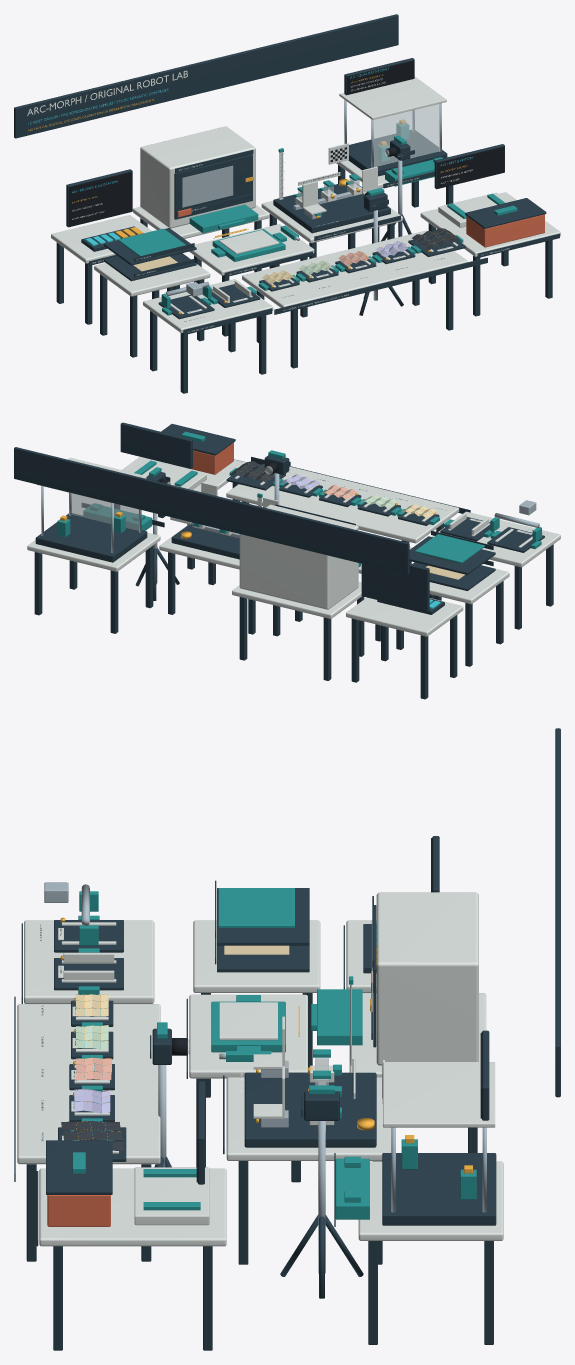
Rendered from arcmorph_lab.glb.
3 renders of one model, top to bottom at view 1: azimuth 30°, elevation 25°; view 2: azimuth 150°, elevation 25°; view 3: azimuth 270°, elevation 25°, orthographic. The views are drawn at different scales.
Parts seen in each view (by area): view 1: scene.banner, fab.enclosure, families.table.top, fab.closed_guard, qual.corner.closed_guard, records.console.screen, qual.corner.top, rig.base, carriers.table.top, qual.corner.base, fold.table.top, inspection.history.screen (+28 smaller); view 2: scene.banner, fab.enclosure, families.table.top, qual.corner.base, records.console.body, records.table.top, inspection.history.body, carriers.table.top, qual.table.top, rig.base, qual.corner.closed_guard, fab.table.top (+26 smaller); view 3: fab.enclosure, families.table.top, qual.corner.base, rig.base, qual.corner.top, inspection.table.top, carriers.table.top, fold.table.top, stock.table.top, rig.table.top, qual.table.top, inspection.rest_cradle (+24 smaller).
Part boxes in pixels (<box>): scene.banner: <box>14,14,398,138</box>; fab.enclosure: <box>140,126,255,228</box>; families.table.top: <box>242,230,468,307</box>; fab.closed_guard: <box>174,154,252,219</box>; qual.corner.closed_guard: <box>374,104,439,166</box>; records.console.screen: <box>69,171,132,226</box>; qual.corner.top: <box>339,76,446,119</box>; rig.base: <box>273,181,390,233</box>; carriers.table.top: <box>143,279,273,333</box>; qual.corner.base: <box>348,130,447,176</box>; fold.table.top: <box>189,224,314,275</box>; inspection.history.screen: <box>437,146,504,188</box>; scene.banner: <box>14,447,409,574</box>; fab.enclosure: <box>239,504,358,609</box>; families.table.top: <box>226,466,459,543</box>; qual.corner.base: <box>35,513,147,562</box>; records.console.body: <box>361,563,429,611</box>; records.table.top: <box>346,597,463,636</box>; inspection.history.body: <box>120,422,192,468</box>; carriers.table.top: <box>431,511,560,567</box>; qual.table.top: <box>27,532,160,571</box>; rig.base: <box>171,522,239,559</box>; qual.corner.closed_guard: <box>71,493,138,530</box>; fab.table.top: <box>232,581,361,618</box>; fab.enclosure: <box>376,892,478,1065</box>; families.table.top: <box>17,1004,160,1164</box>; qual.corner.base: <box>382,1153,496,1225</box>; rig.base: <box>244,1072,376,1147</box>; qual.corner.top: <box>383,1062,495,1127</box>; inspection.table.top: <box>39,1168,226,1246</box>; carriers.table.top: <box>24,920,154,1003</box>; fold.table.top: <box>189,994,307,1078</box>; stock.table.top: <box>193,920,320,992</box>; rig.table.top: <box>226,1077,391,1160</box>; qual.table.top: <box>358,1161,503,1240</box>; inspection.rest_cradle: <box>134,1167,209,1225</box>.
Bounding box in the file's own units: 4.75 × 2.03 × 3.36.
